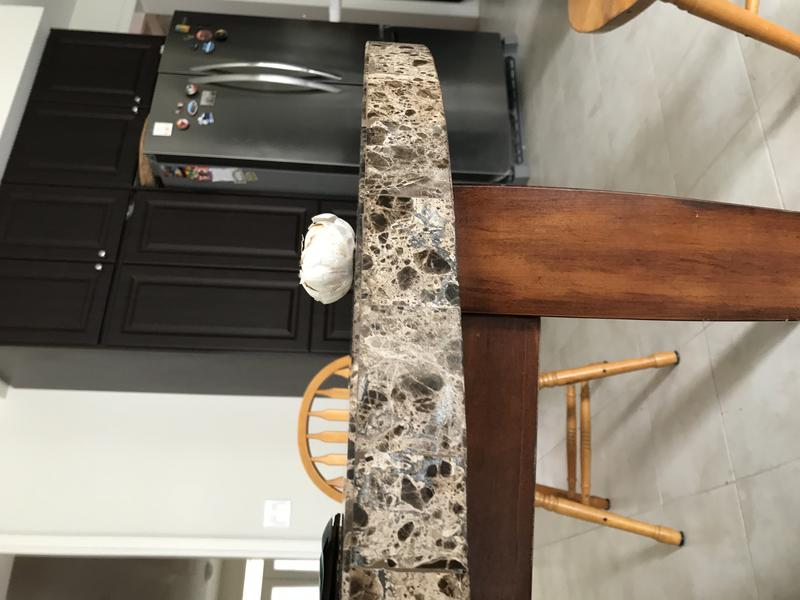garlic: (289, 207, 361, 307)
